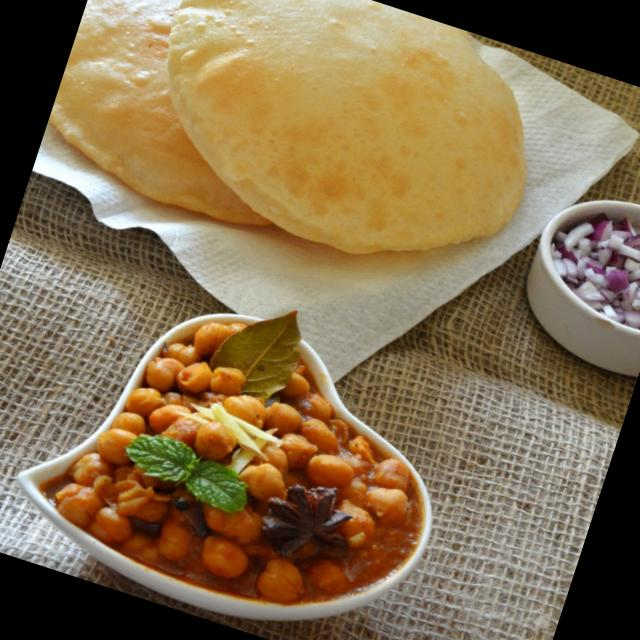Bhatura: (124, 0, 563, 298), (35, 0, 340, 236)
Chole: (33, 278, 471, 640)
